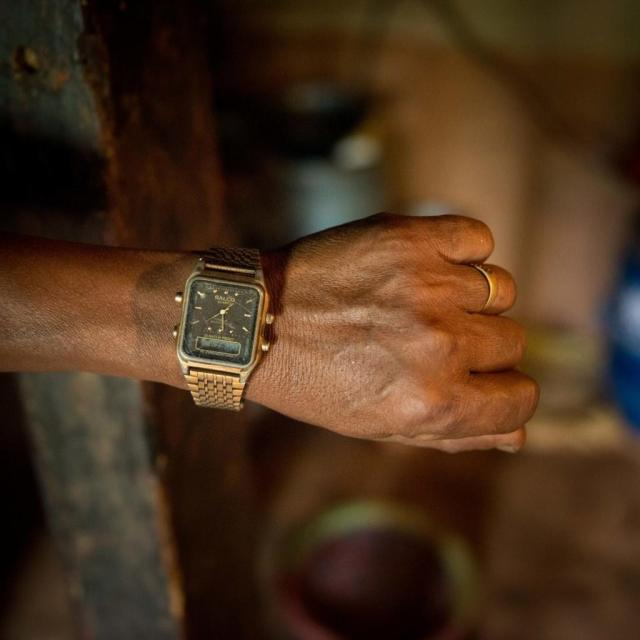Wrist watch: (168, 241, 281, 390)
